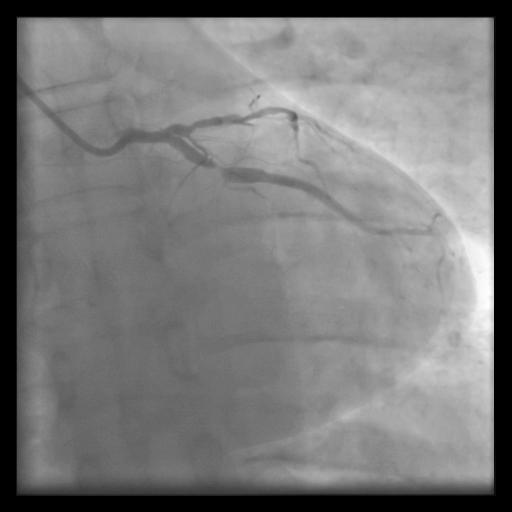Stenosis: (206, 153, 234, 185)
